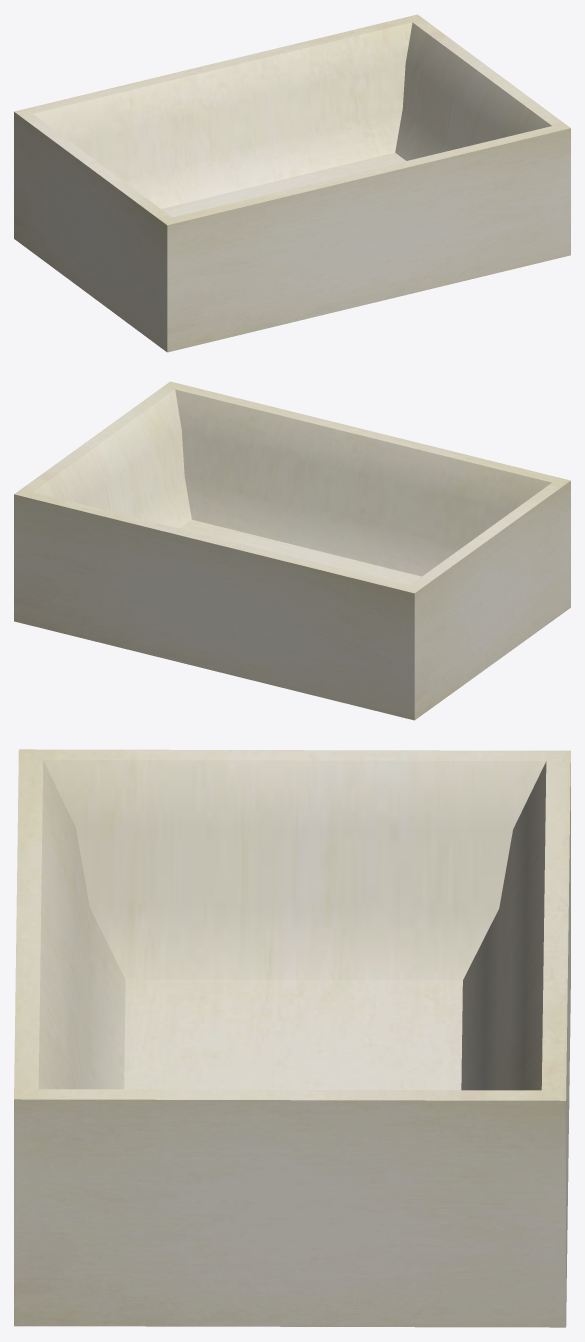
The model's file is NFG-I0023.glb.
3 views of the same model, one above another, from view 1: azimuth 30°, elevation 25°; view 2: azimuth 150°, elevation 25°; view 3: azimuth 270°, elevation 25° (orthographic). The views are drawn at different scales.
Visible parts, largest first — view 1: sink; view 2: sink; view 3: sink.
Boxes of the visible parts, bbox=[...] form: sink: bbox=[14, 14, 570, 352]; sink: bbox=[14, 381, 570, 720]; sink: bbox=[14, 749, 570, 1327].
Size of the model in its own units: 2 by 0.6017 by 1.34.
Materials: 1 (1 with a texture image).
